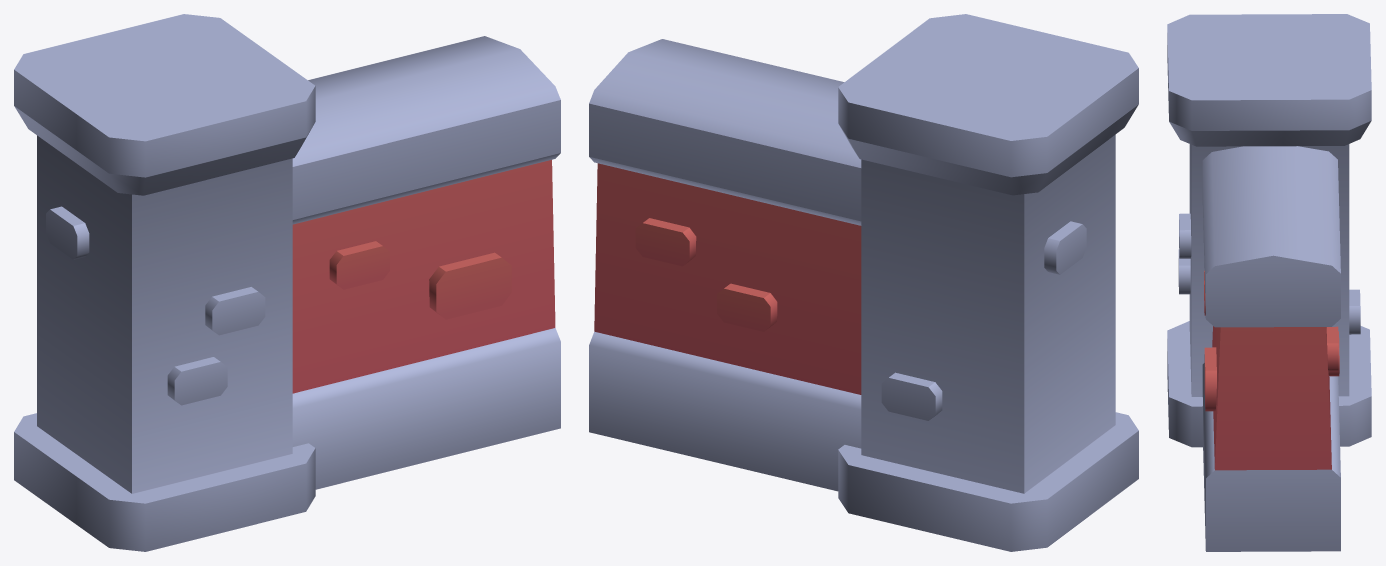
The model's file is brick-wall-end.011_lev2.glb.
3 views of the same model, side by side, from view 1: azimuth 30°, elevation 25°; view 2: azimuth 150°, elevation 25°; view 3: azimuth 270°, elevation 25° (orthographic). The views are drawn at different scales.
Visible parts, largest first — view 1: brick-wall-end.011_lev2; view 2: brick-wall-end.011_lev2; view 3: brick-wall-end.011_lev2.
Boxes of the visible parts, box(x1,y1,x2,y2) form: brick-wall-end.011_lev2: box(14, 14, 560, 551); brick-wall-end.011_lev2: box(589, 14, 1138, 551); brick-wall-end.011_lev2: box(1167, 14, 1371, 551).
Bounding box in the file's own units: 8.03 × 6.8 × 3.63.
Materials: 1 (1 with a texture image).
